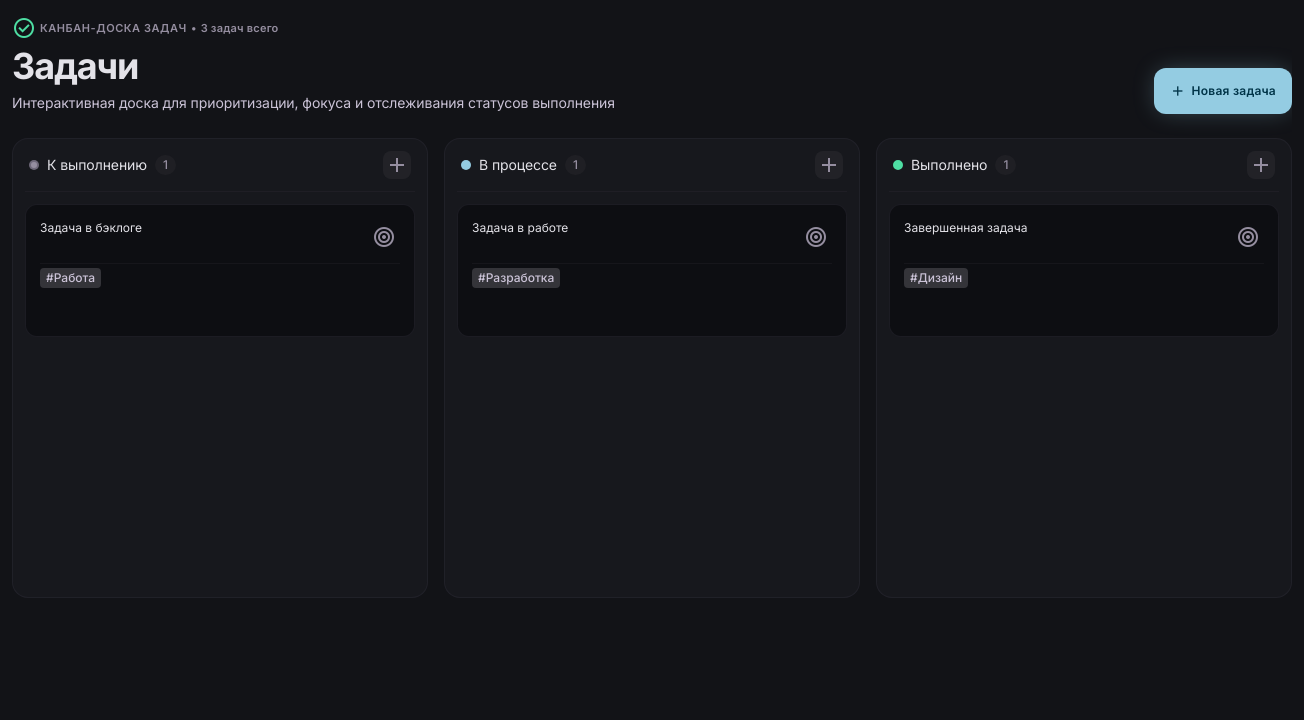
it: TasksPage - Focus Task & Kanban Streamline (TASK-36) › sets focus when target icon is clicked and marks task with badge
Click the button named "Сделать главной задачей дня" in the row of "Задача в бэклоге" at x=384, y=236, box x1=368 y1=219 x2=400 y2=253
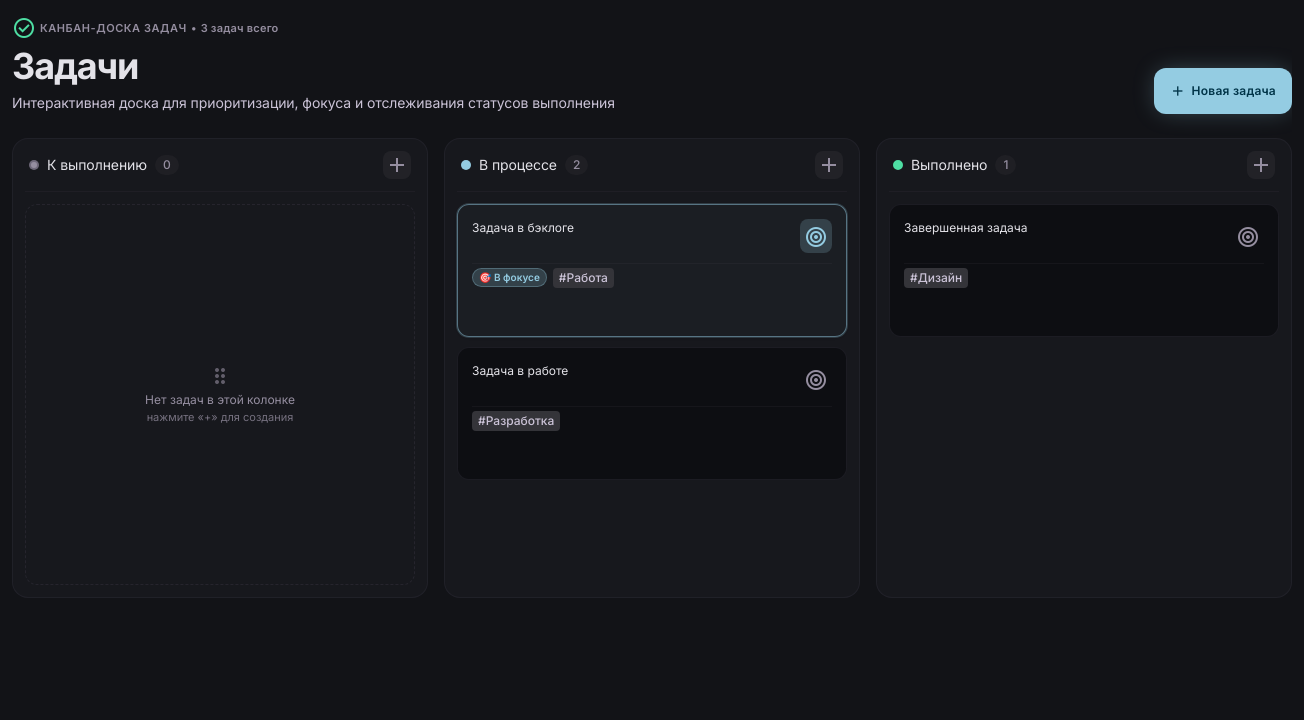
Result: the text "🎯 В фокусе" is shown at x1=472 y1=268 x2=547 y2=287
